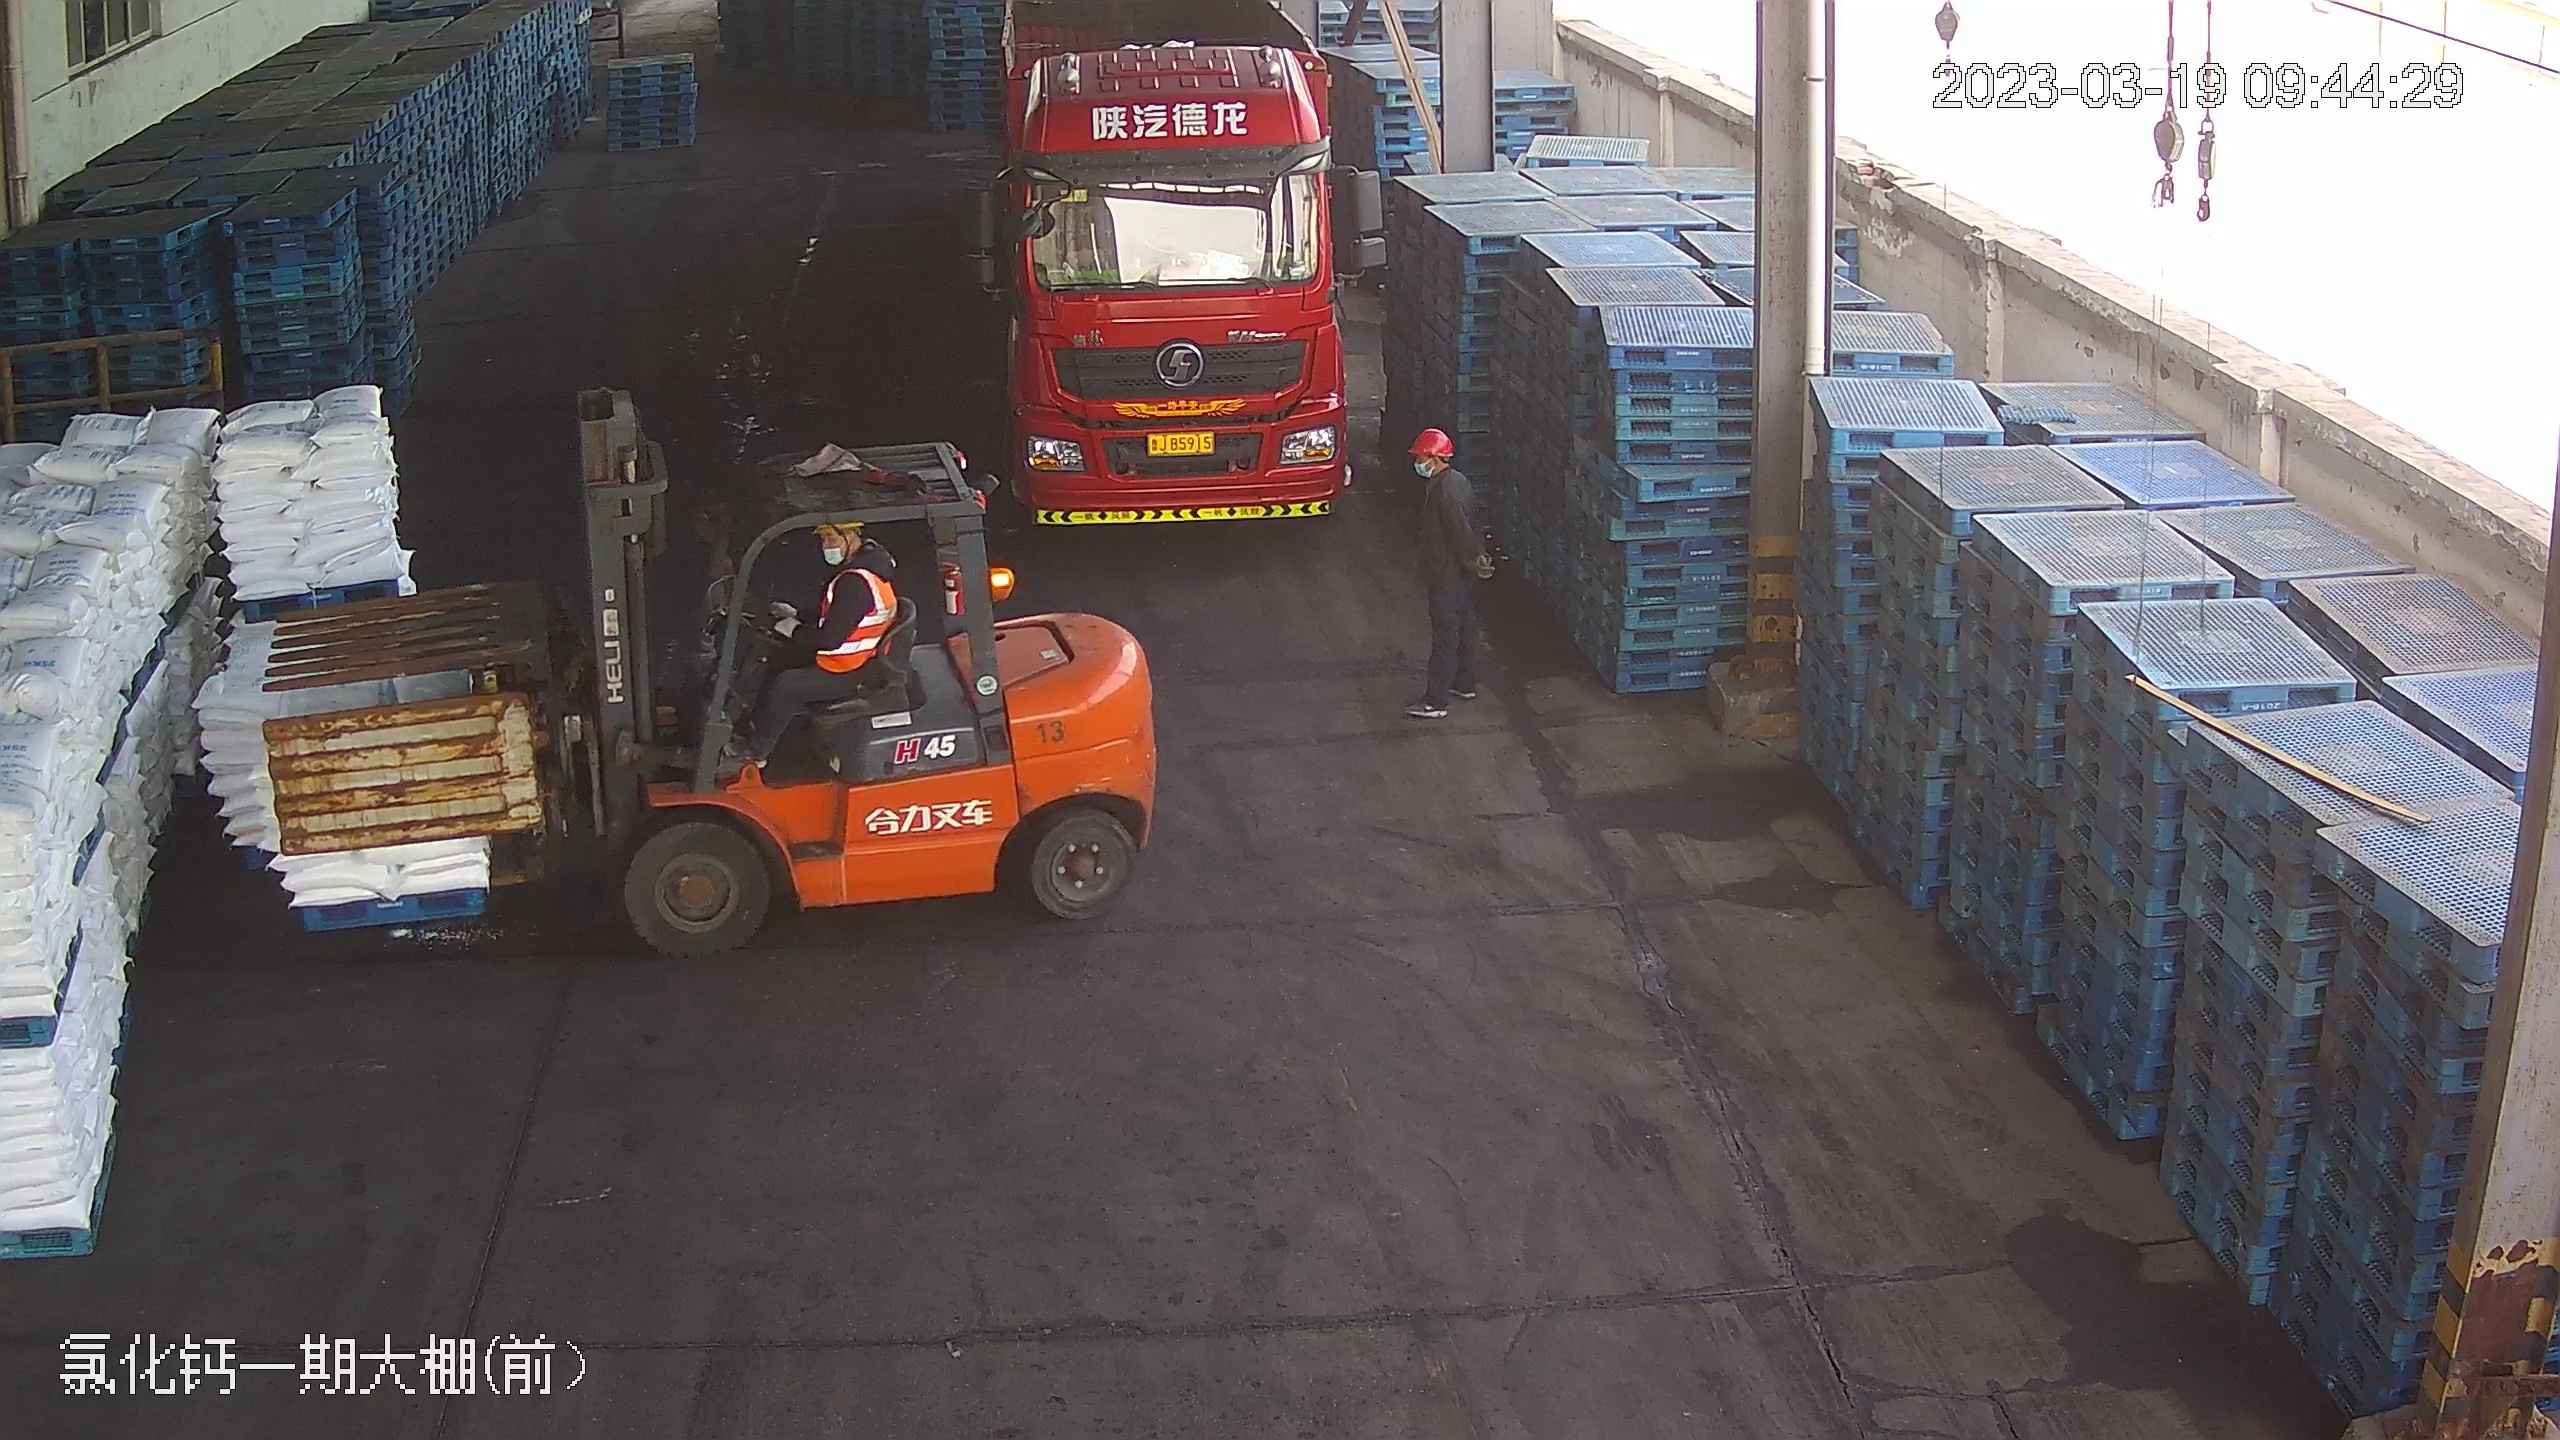head: (801, 517, 896, 618), (1398, 423, 1474, 527)
helmet: (1408, 424, 1456, 459), (821, 518, 866, 547)
people: (745, 512, 903, 770), (1391, 420, 1491, 728)
truck: (980, 0, 1355, 520)
